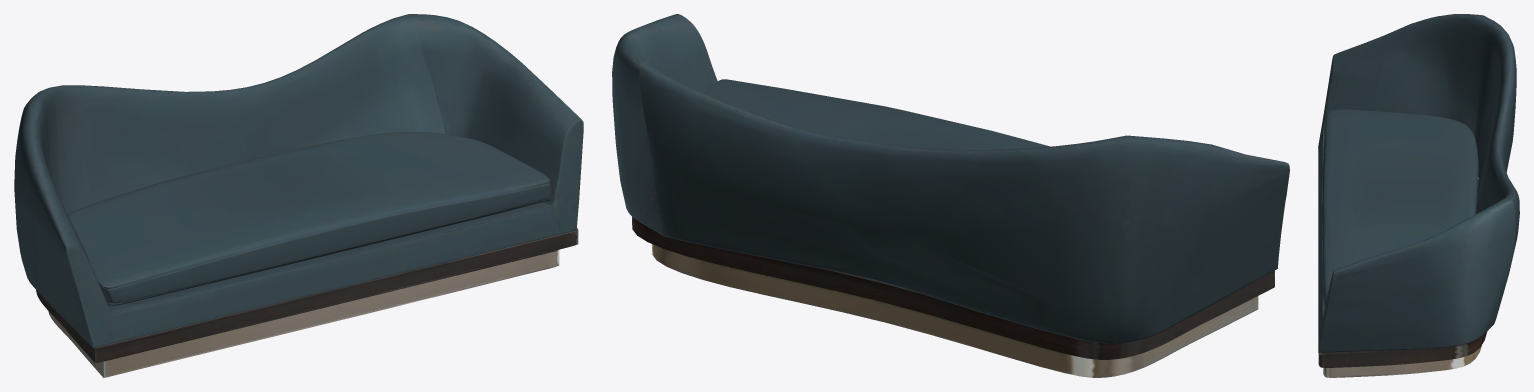
3 views of the same model, side by side, from view 1: azimuth 30°, elevation 25°; view 2: azimuth 150°, elevation 25°; view 3: azimuth 270°, elevation 25° (orthographic). The views are drawn at different scales.
Parts seen in each view (by area): view 1: solid_001; view 2: solid_001; view 3: solid_001.
Part boxes in pixels (x1,y1,x2,y2): solid_001: (14, 14, 583, 377); solid_001: (612, 14, 1289, 377); solid_001: (1318, 14, 1519, 377).
Size of the model in its own units: 2 by 0.7597 by 0.7793.
Materials: 1 (1 with a texture image).
